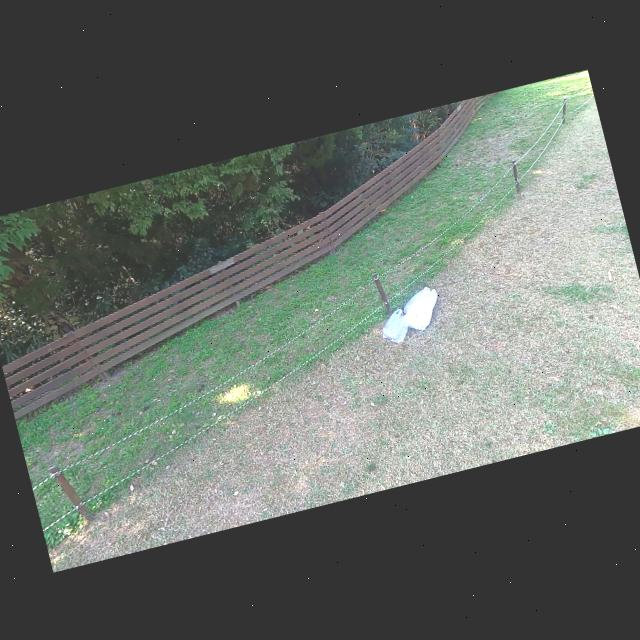trash: (394, 278, 442, 326), (396, 288, 444, 335), (374, 304, 424, 348)
